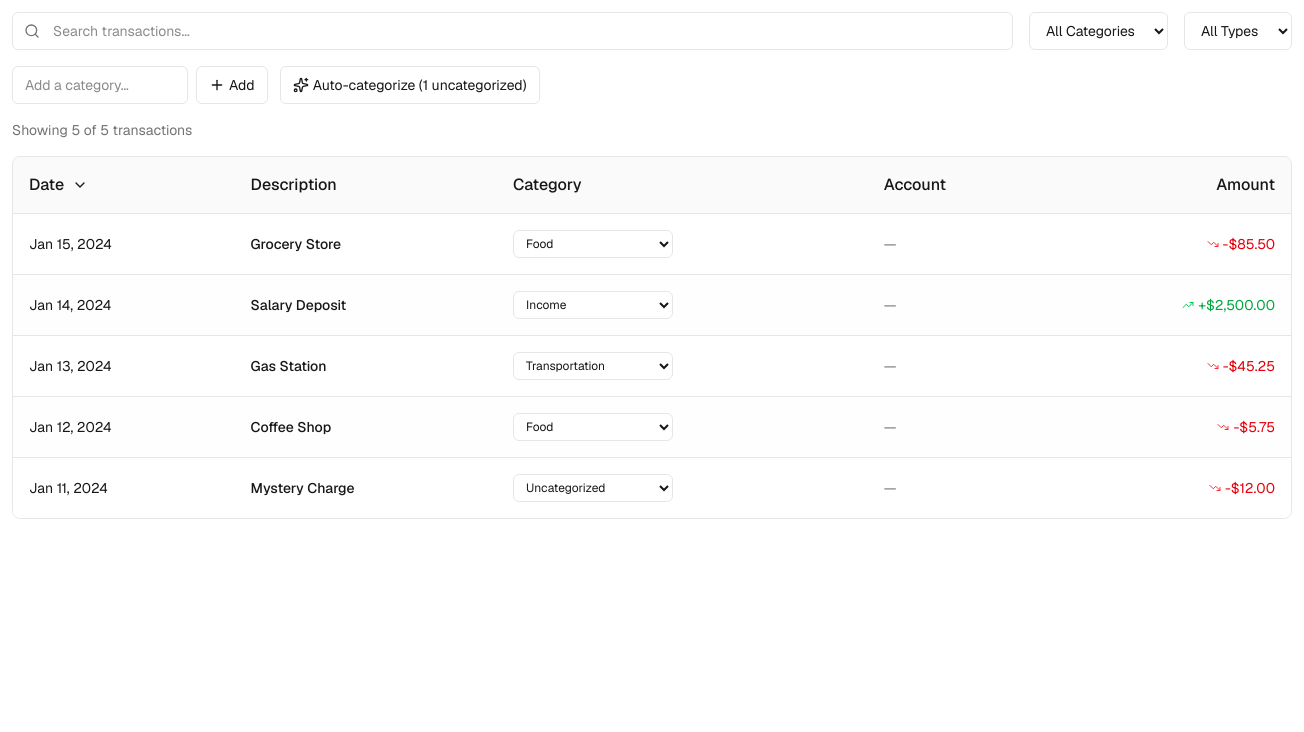
Test: TransactionTable › filters to only uncategorized transactions
This screenshot has width=1304, height=732.
Select "Uncategorized" in the dropdown named "Filter by category" at (1098, 31), box [1029,12,1168,50]
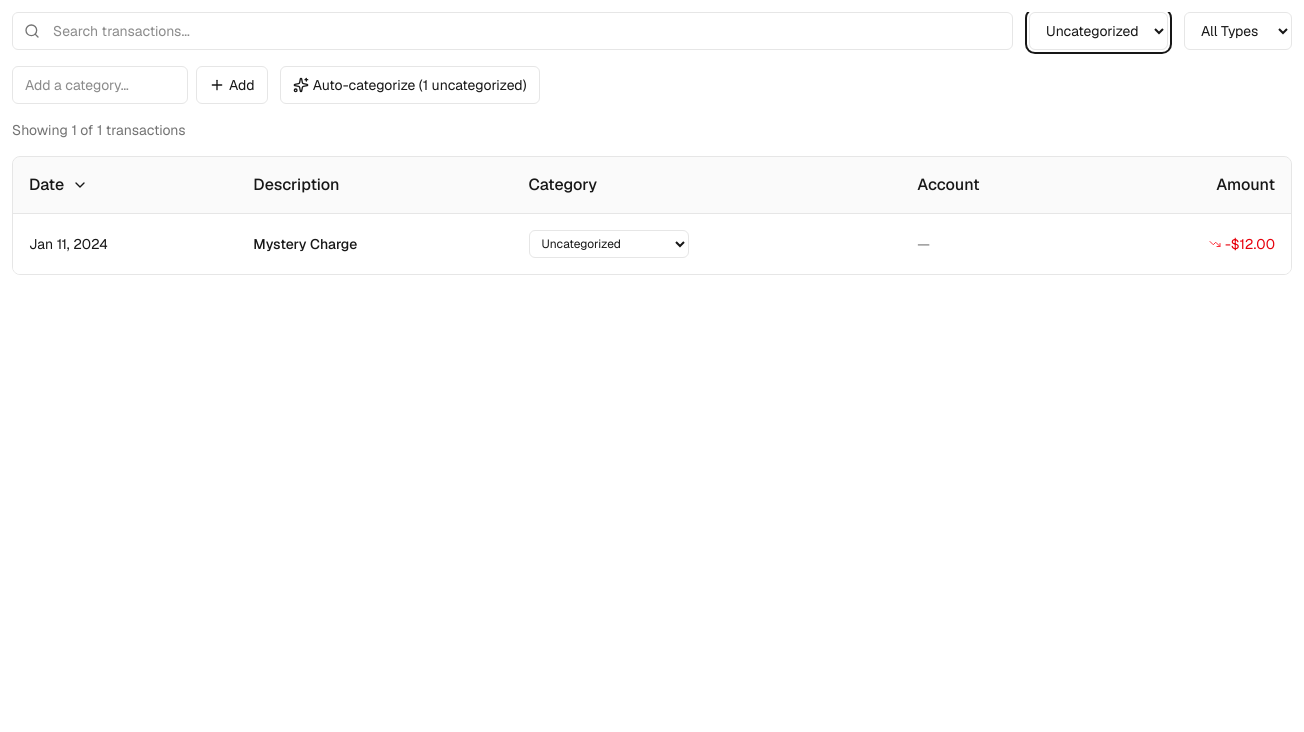
Expected: the text "Mystery Charge" is shown, [237,214,512,274]
Expected: the text "Grocery Store" is gone
Expected: the text "Showing 1 of 1 transactions" is shown, [12,121,186,139]
